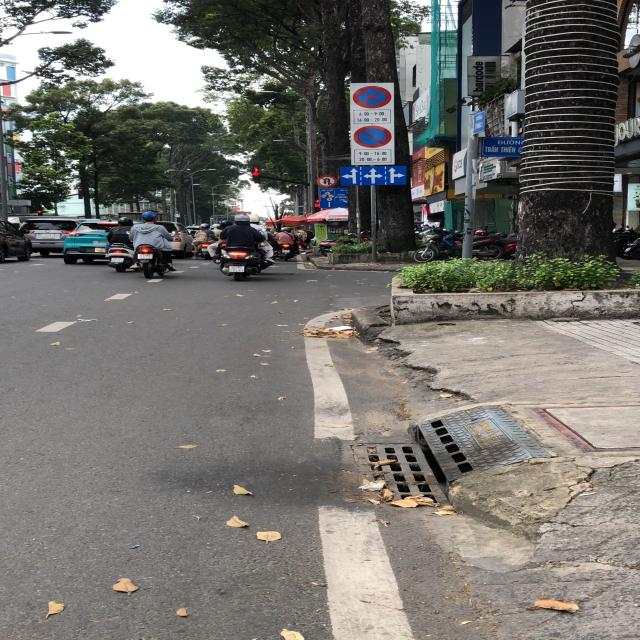Bien bao cam do xe: (351, 123, 396, 150)
Bien bao cam dung xe va do xe: (351, 85, 396, 109)
Bien bao cam quay dau xe: (316, 173, 338, 188)
